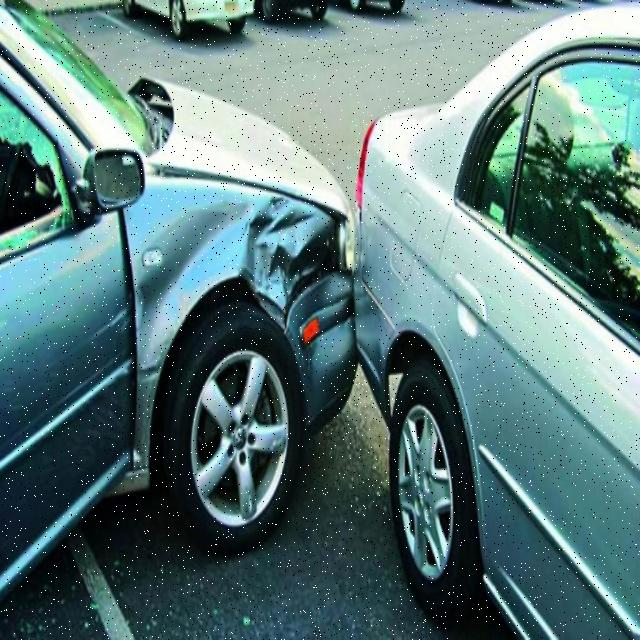damage: (137, 199, 249, 362), (241, 198, 338, 324)
